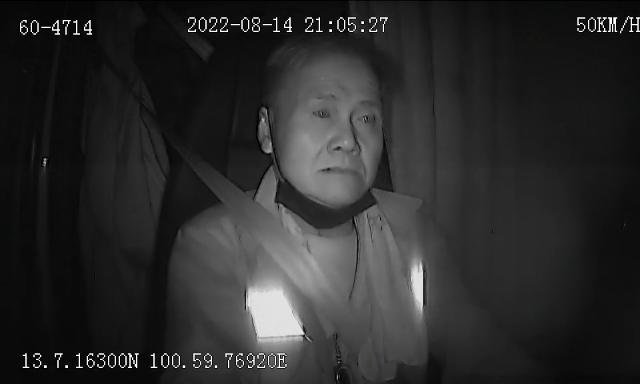SafeDriving: (305, 97, 339, 127), (350, 102, 382, 132)
Seatbelt: (158, 108, 362, 356)
